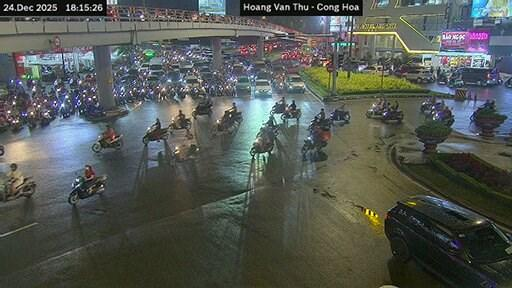motorbike: (67, 175, 105, 203), (3, 176, 35, 201), (301, 126, 329, 153), (169, 144, 198, 163), (92, 135, 121, 152), (249, 135, 272, 156), (141, 126, 167, 144), (301, 135, 326, 153), (211, 117, 237, 134), (167, 117, 191, 131), (432, 112, 454, 126), (256, 124, 278, 138), (419, 100, 444, 112), (381, 108, 403, 121), (192, 103, 211, 117), (307, 118, 329, 130), (329, 108, 347, 122), (365, 103, 384, 116), (60, 99, 73, 117), (39, 109, 51, 126), (281, 108, 300, 118), (10, 117, 22, 130), (269, 103, 284, 113), (272, 81, 284, 93), (419, 100, 432, 111), (448, 76, 463, 85), (435, 73, 447, 84), (231, 112, 242, 121), (28, 112, 35, 126), (0, 144, 3, 154)
